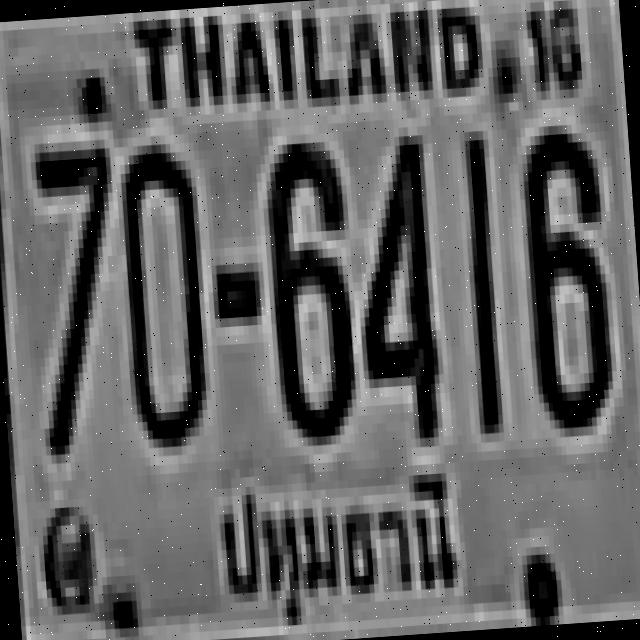0: (114, 133, 208, 440)
1: (456, 131, 501, 425), (454, 131, 498, 425)
4: (347, 126, 438, 432)
6: (258, 132, 354, 438), (515, 114, 610, 420)
7: (24, 134, 125, 450)
PathumThani: (210, 456, 468, 636)
